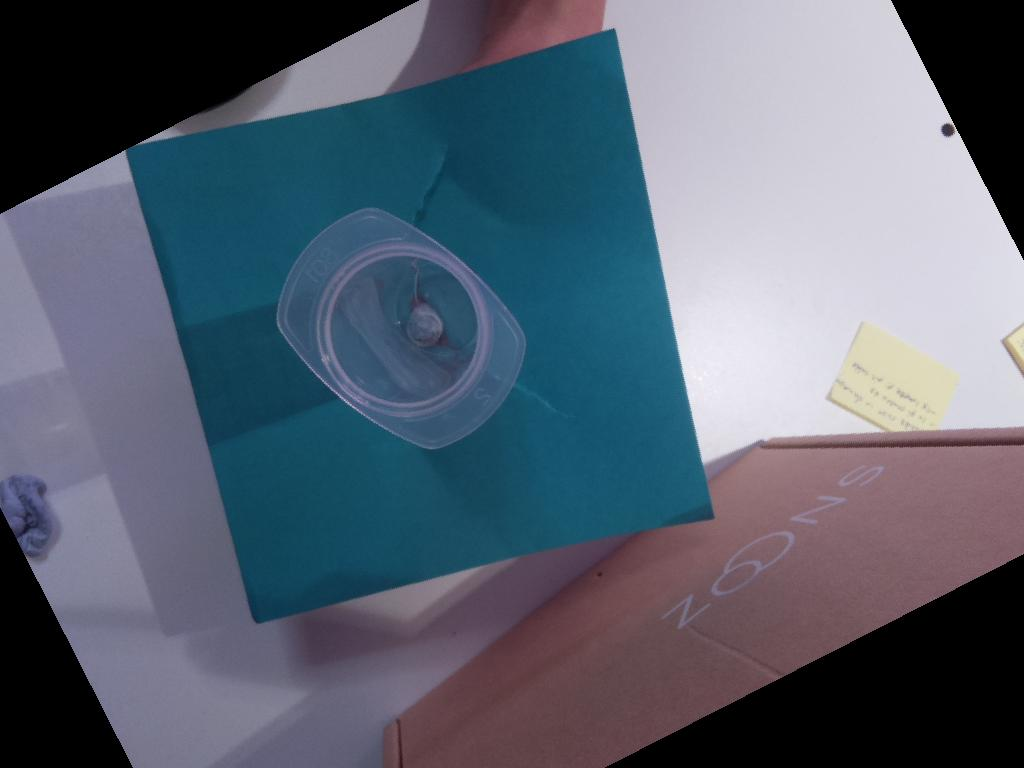clean: (276, 206, 528, 451)
